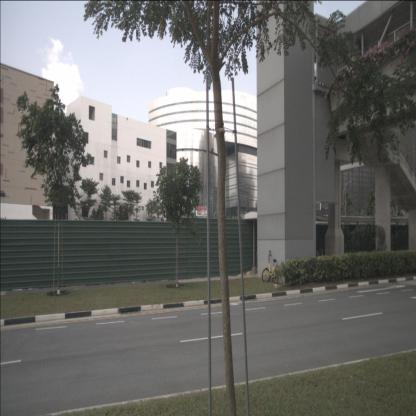vehicle-bicycle: (262, 249, 280, 284)
